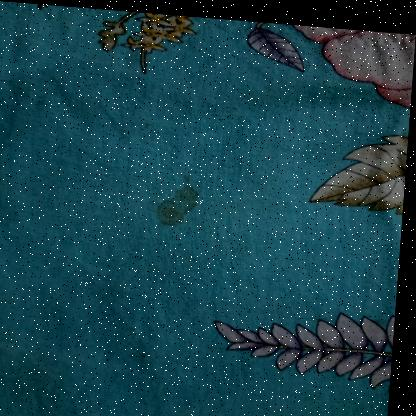spot: (146, 168, 215, 226), (175, 400, 198, 416)
